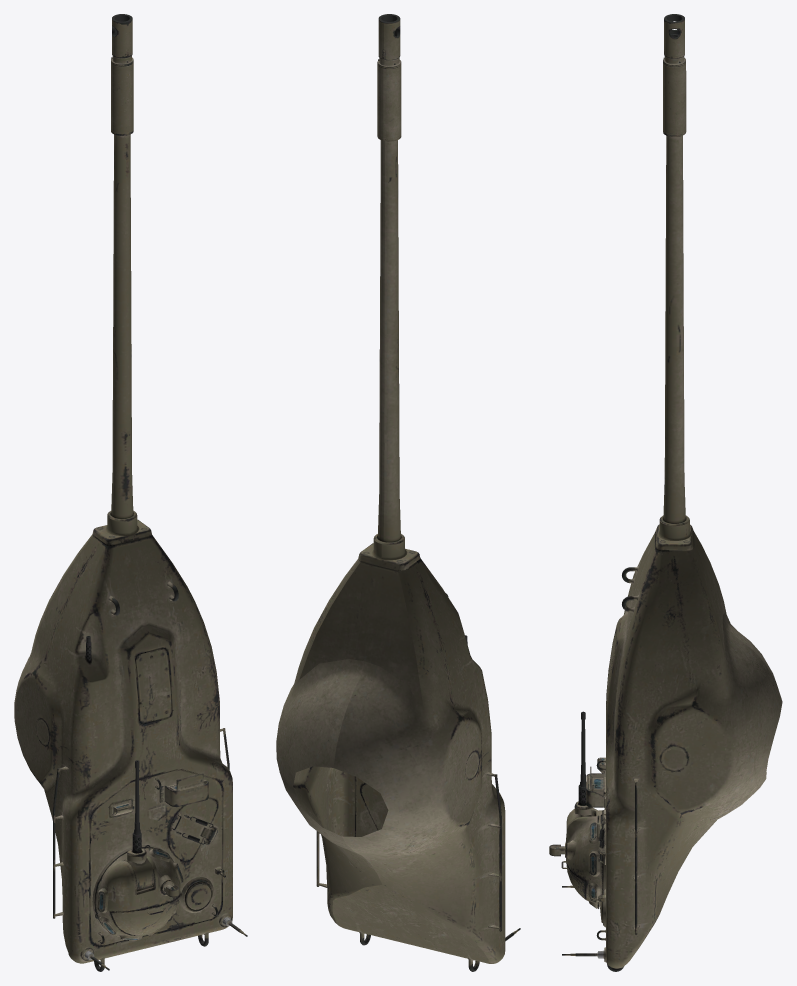
Rendered from Gun_01.glb.
3 views of the same model, side by side, from view 1: azimuth 30°, elevation 25°; view 2: azimuth 150°, elevation 25°; view 3: azimuth 270°, elevation 25° (orthographic). The views are drawn at different scales.
Parts seen in each view (by area): view 1: set_0_group_0; view 2: set_0_group_0; view 3: set_0_group_0.
Part boxes in pixels (x1,y1,x2,y2): set_0_group_0: [14, 14, 247, 971]; set_0_group_0: [276, 14, 520, 971]; set_0_group_0: [549, 14, 782, 971].
Bounding box in the file's own units: 1.87 × 9.29 × 2.12.
Materials: 1 (1 with a texture image).
